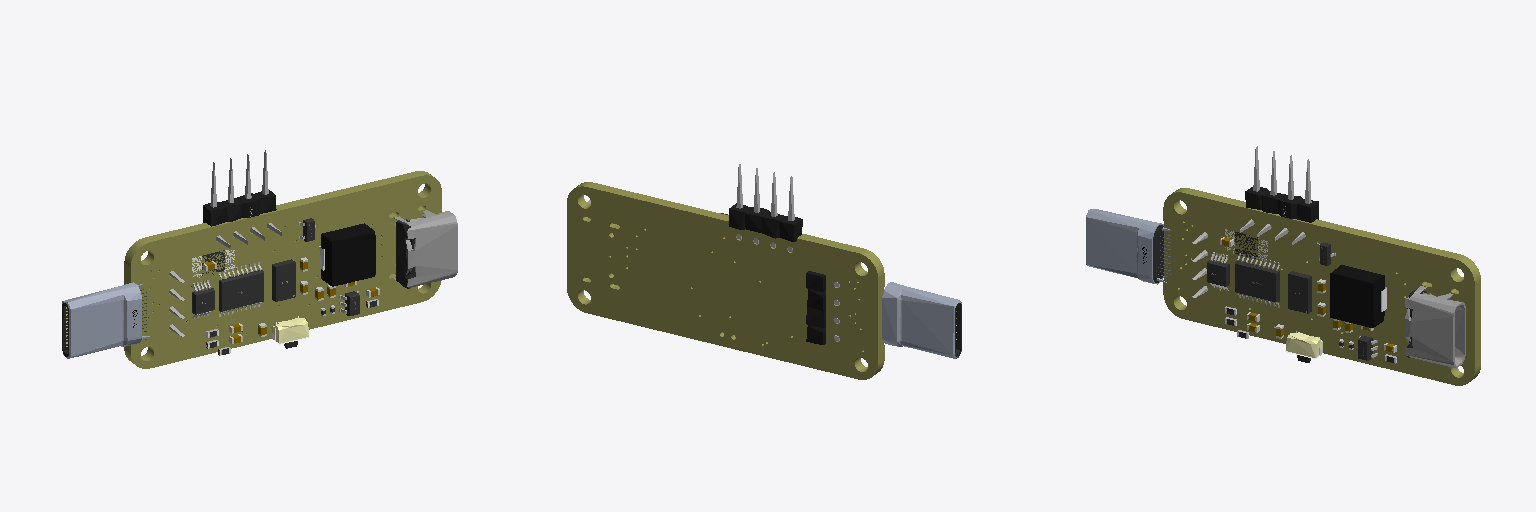
File: 3D_PCB1_2024-02-04.obj
3 views of the same model, side by side, from view 1: azimuth 30°, elevation 25°; view 2: azimuth 150°, elevation 25°; view 3: azimuth 330°, elevation 25° (orthographic).
Size of the model in its own units: 56.81 by 26.87 by 7.29.